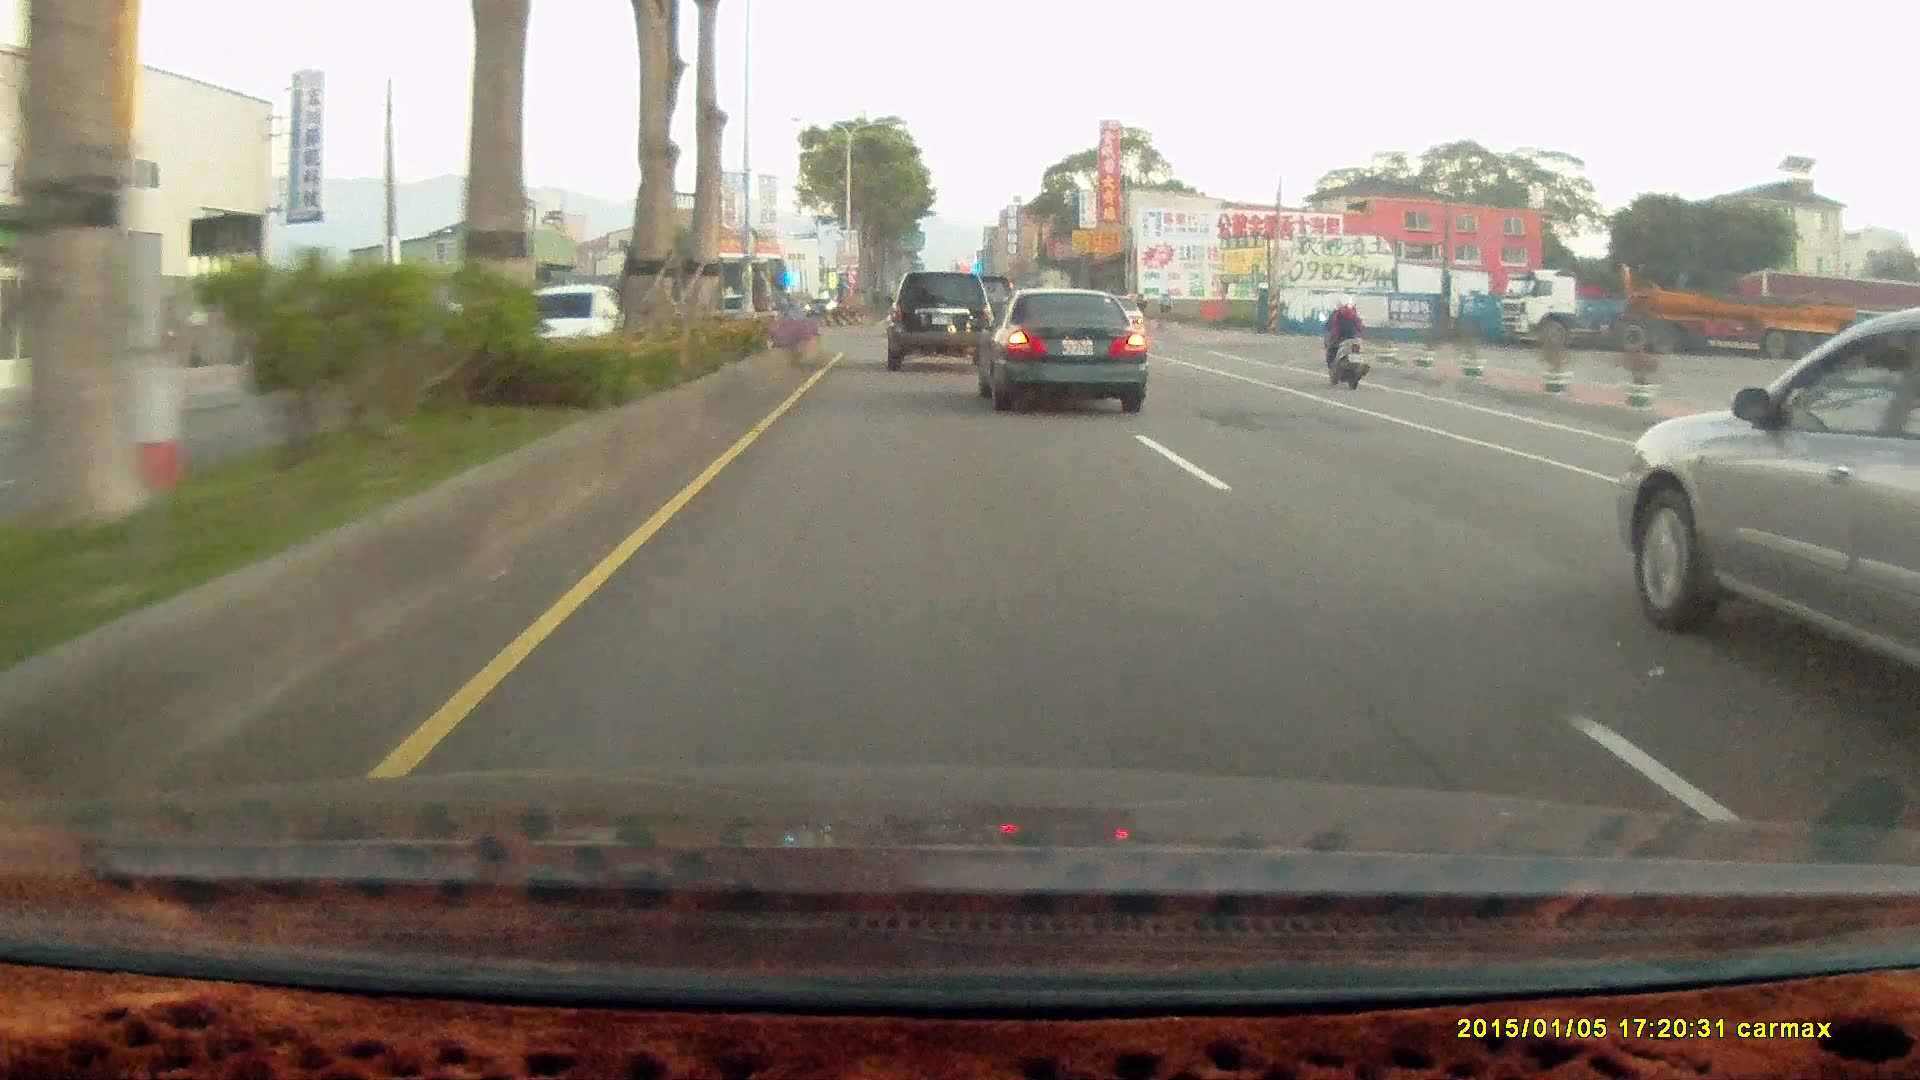rider: (1315, 291, 1376, 392), (1314, 292, 1370, 388)
vehicle: (1631, 304, 1920, 700), (1496, 264, 1855, 358), (972, 284, 1148, 412), (978, 289, 1148, 411), (882, 272, 991, 373), (887, 266, 997, 368), (506, 284, 621, 365), (505, 283, 620, 364)
